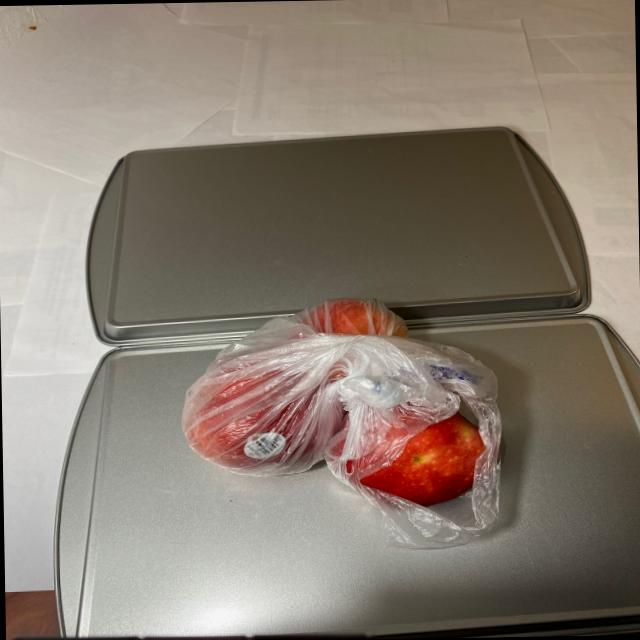apple: (183, 294, 504, 519)
